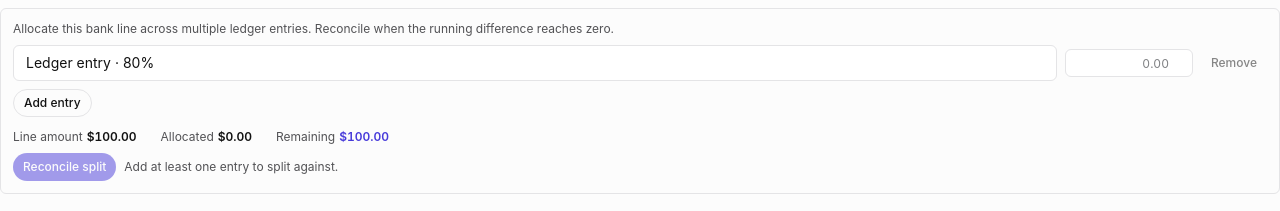
ReconciliationSplitMatch › shows the running remaining amount
In the number field named "allocated": x=1129, y=63 [1065,49,1193,77], type "25"
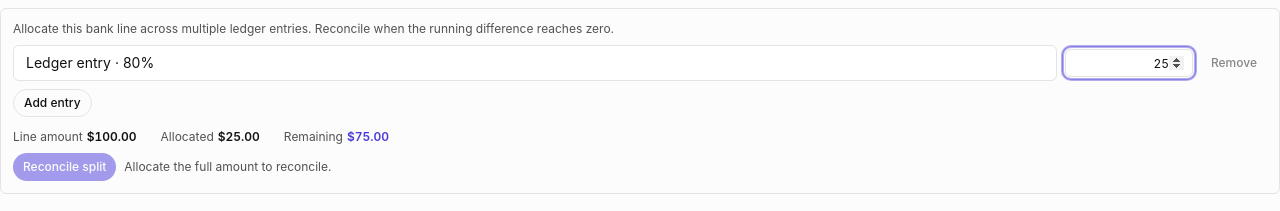
expect the text "$75.00" is shown: met, box [347,129,389,145]
